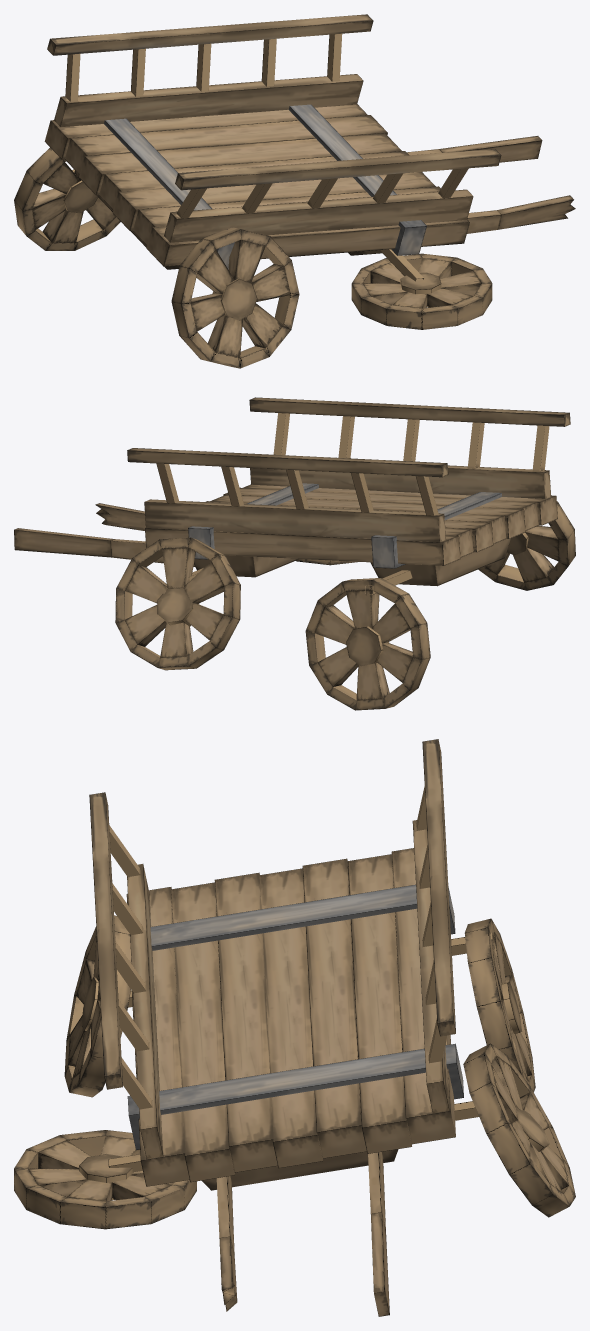
3 renders of one model, top to bottom at view 1: azimuth 30°, elevation 25°; view 2: azimuth 150°, elevation 25°; view 3: azimuth 270°, elevation 25°, orthographic. The views are drawn at different scales.
Parts seen in each view (by area): view 1: broken_wagon; view 2: broken_wagon; view 3: broken_wagon.
Boxes of the visible parts, x1=… form: broken_wagon: x1=14, y1=14, x2=575, y2=368; broken_wagon: x1=14, y1=397, x2=575, y2=710; broken_wagon: x1=14, y1=739, x2=575, y2=1316.
Bounding box in the file's own units: 119 × 58.83 × 93.53.
1 material, 1 textured.
